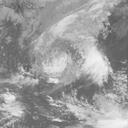cyclone: (41, 33, 101, 86)
